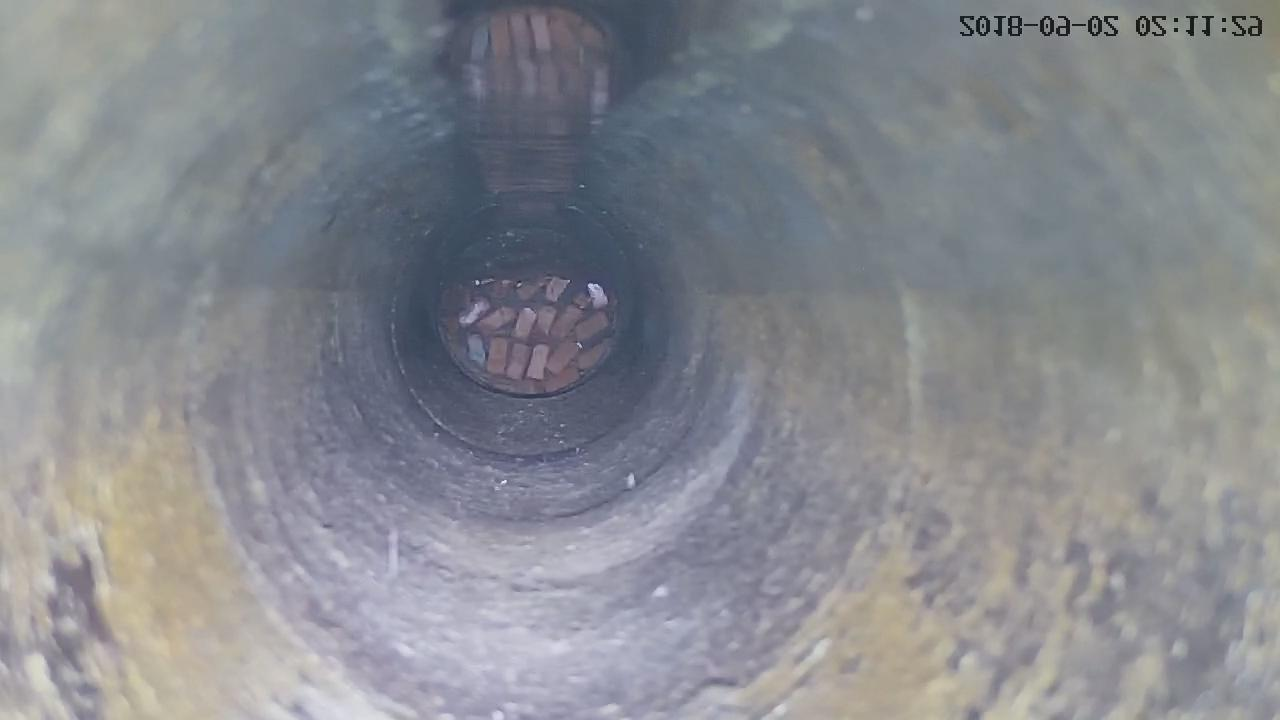CQBG: (437, 275, 617, 395)
